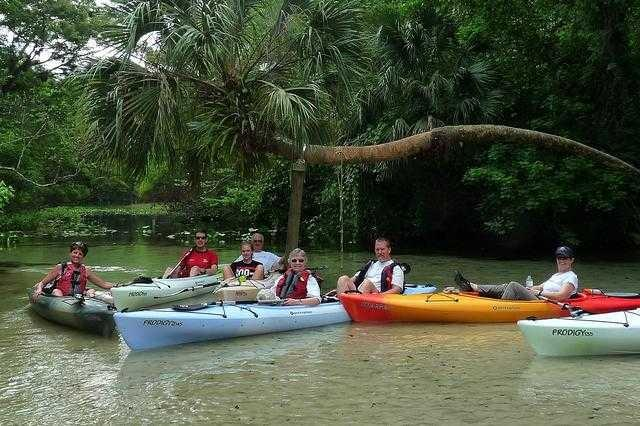kayak: (114, 299, 348, 353), (28, 274, 220, 335), (336, 289, 611, 323), (517, 313, 639, 357), (27, 288, 117, 336)
